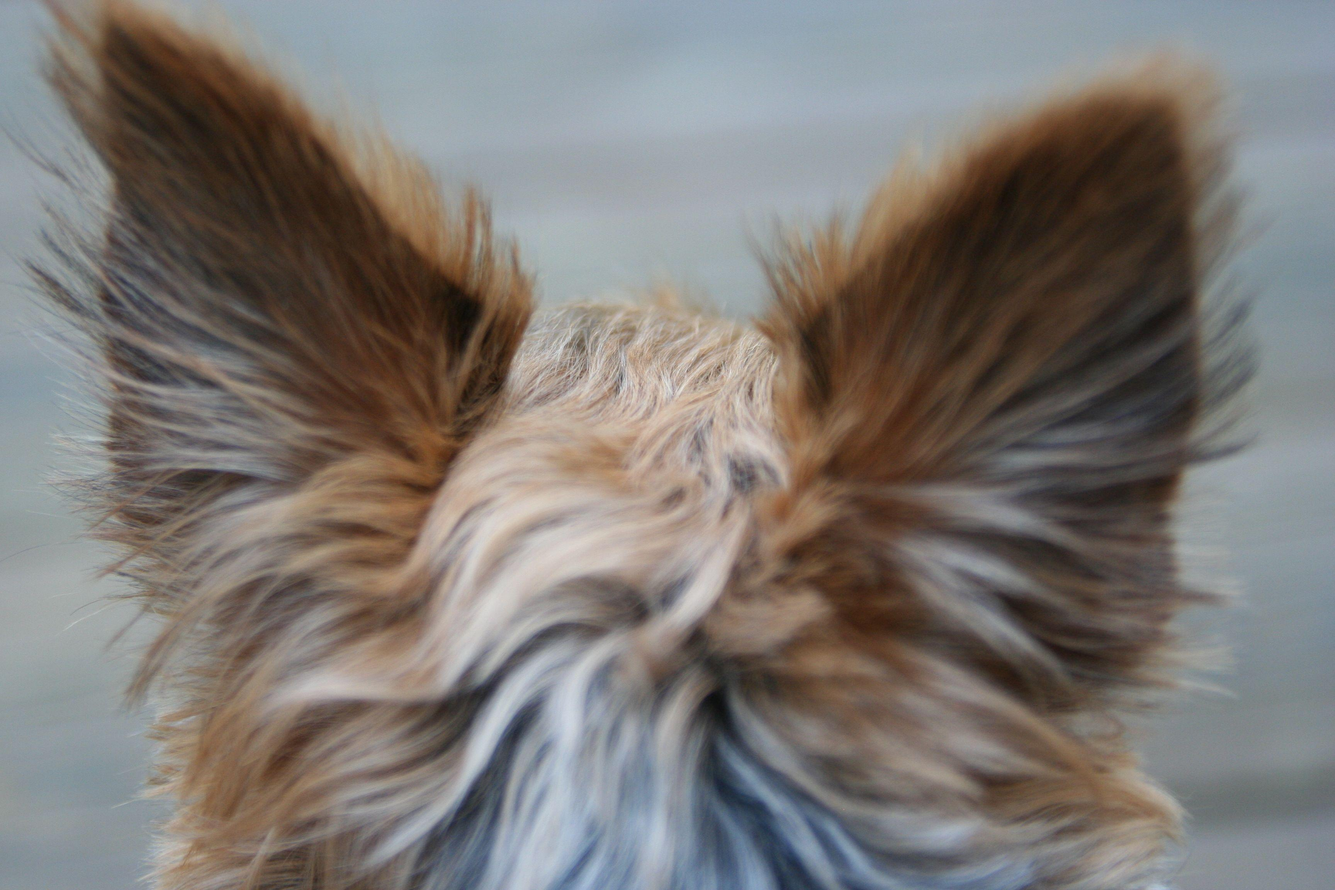adult_dog: (22, 1, 1263, 890)
